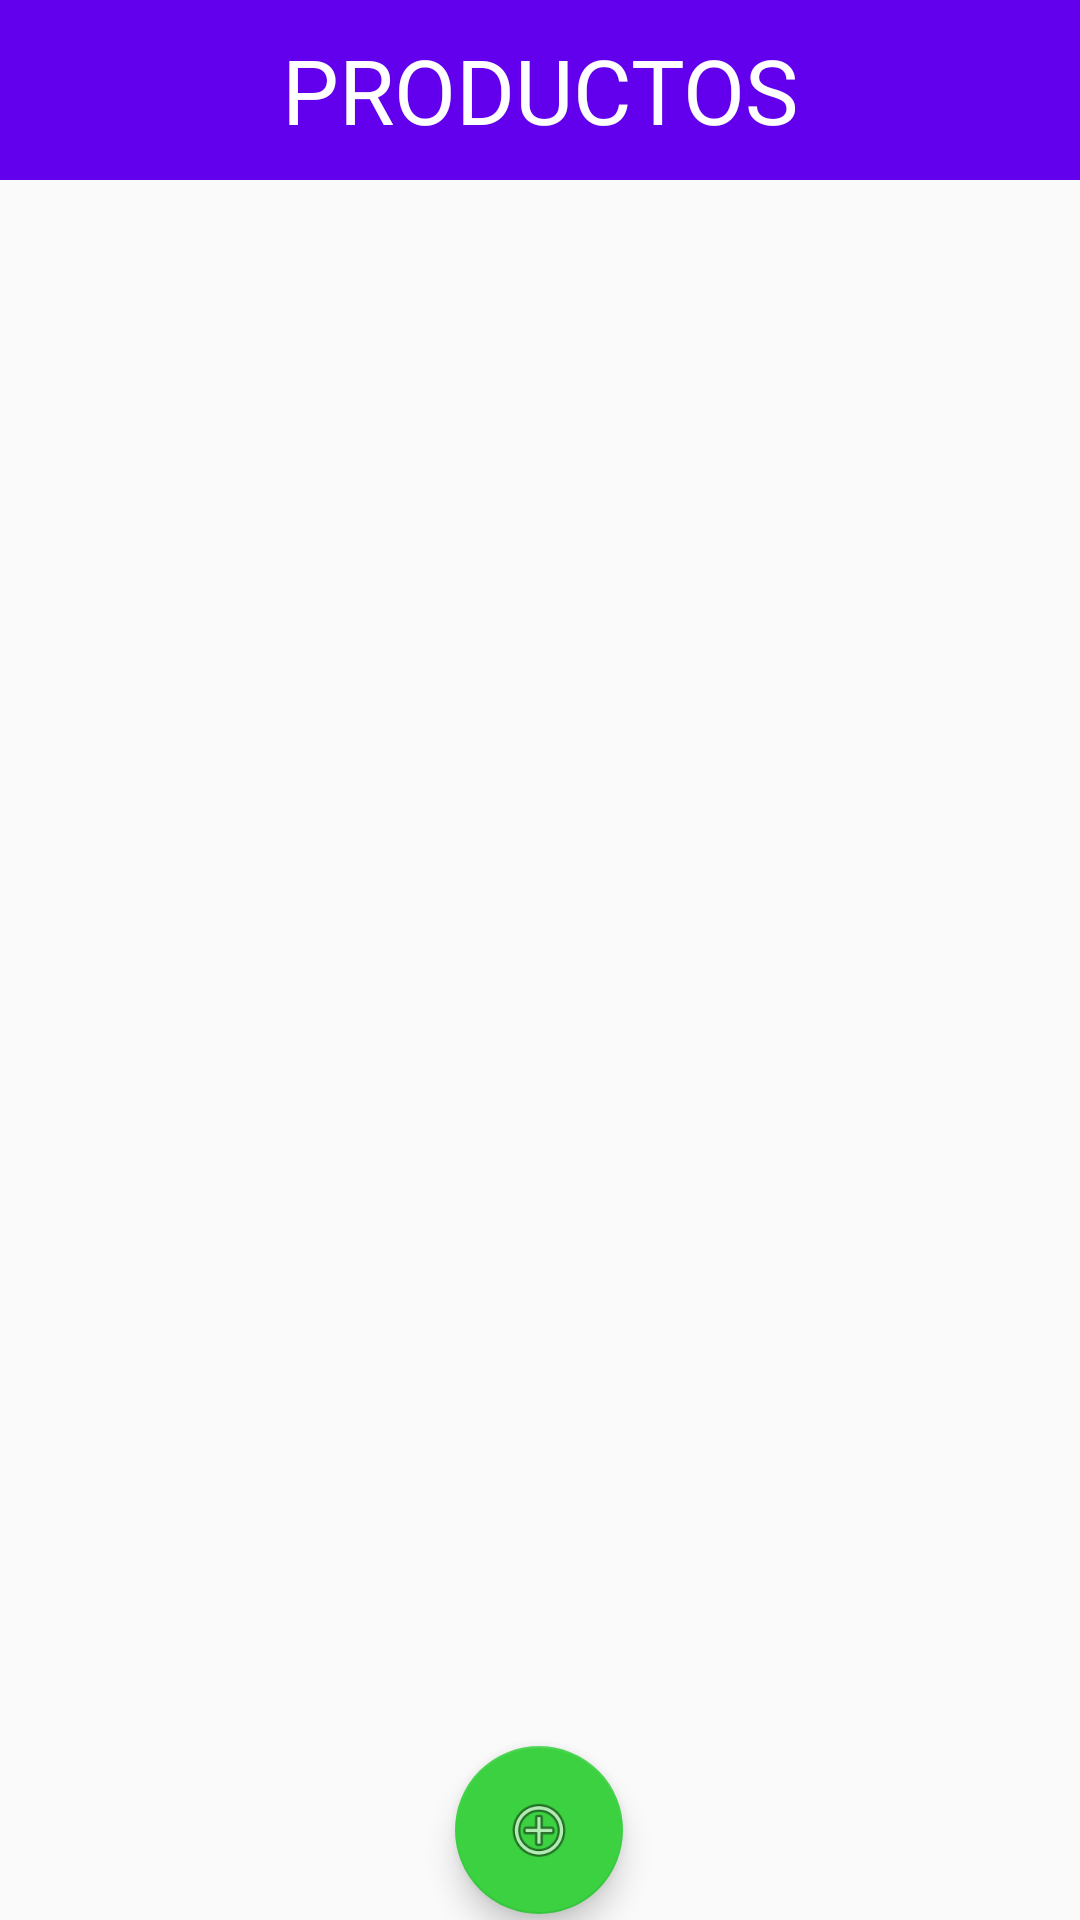

Where to tap for icons on this 1080w x 1920h app screen, as (x,y):
add: (539,1830)
